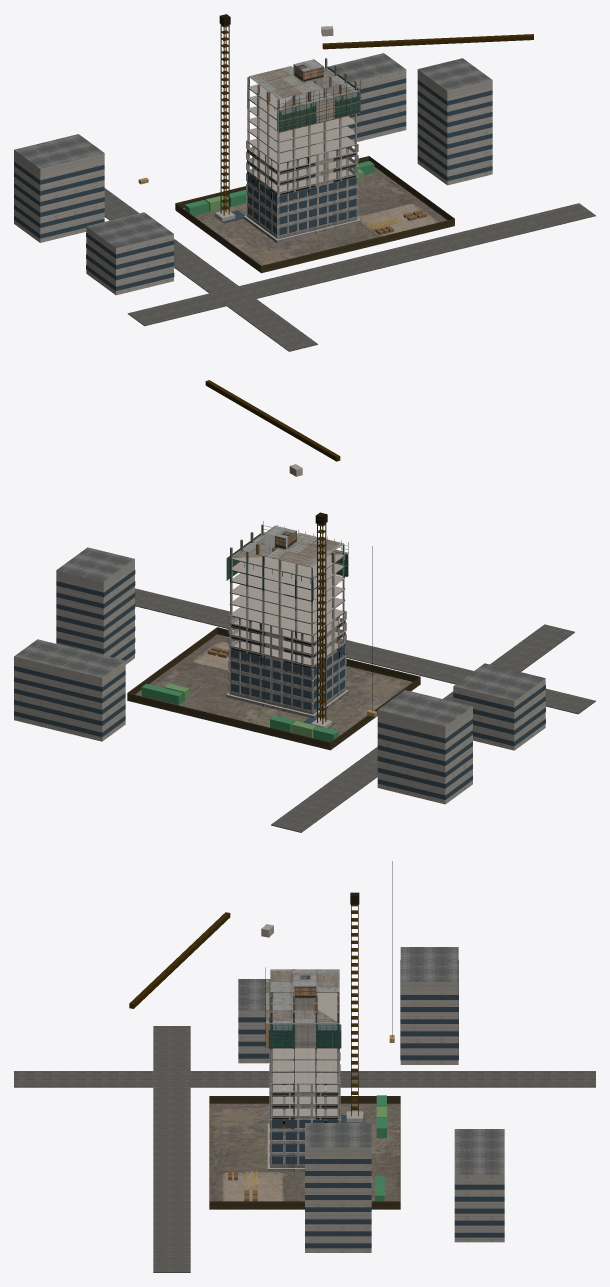
Rendered from tower-m8.glb.
3 views of the same model, one above another, from view 1: azimuth 30°, elevation 25°; view 2: azimuth 150°, elevation 25°; view 3: azimuth 270°, elevation 25° (orthographic). The views are drawn at different scales.
Parts seen in each view (by area): view 1: Ground_NeighbourPBR, Ground_AsphaltPBR, Ground_GlassPBR, SitePad, Ground_FencePBR, Crane_CranePBR, F13_PlywoodPBR, Slab_11, Slab_7, Slab_6, Slab_8, F12_NetPBR (+20 smaller); view 2: Ground_NeighbourPBR, Ground_GlassPBR, Ground_AsphaltPBR, SitePad, Ground_FencePBR, Crane_CranePBR, F13_PlywoodPBR, Slab_11, Ground_ContainerPBR, Slab_8, Slab_9, Slab_7 (+16 smaller); view 3: Ground_NeighbourPBR, Ground_AsphaltPBR, SitePad, Ground_GlassPBR, Crane_CranePBR, Ground_FencePBR, Slab_11, F13_PlywoodPBR, GravelYard, F11_NetPBR, F12_NetPBR, Slab_7 (+7 smaller).
Part boxes in pixels (x1,y1,x2,y2): Ground_NeighbourPBR: (14, 53, 492, 295); Ground_AsphaltPBR: (104, 188, 595, 351); Ground_GlassPBR: (14, 78, 492, 290); SitePad: (176, 167, 454, 273); Ground_FencePBR: (175, 156, 454, 272); Crane_CranePBR: (220, 24, 533, 215); F13_PlywoodPBR: (248, 66, 360, 111); Slab_11: (247, 68, 357, 109); Slab_7: (247, 126, 357, 153); Slab_6: (247, 137, 356, 163); Slab_8: (247, 116, 357, 142); F12_NetPBR: (278, 67, 360, 121); Ground_NeighbourPBR: (14, 547, 545, 804); Ground_GlassPBR: (14, 570, 545, 799); Ground_AsphaltPBR: (135, 588, 595, 832); SitePad: (127, 634, 420, 750); Ground_FencePBR: (127, 627, 420, 749); Crane_CranePBR: (205, 380, 340, 724); F13_PlywoodPBR: (256, 532, 348, 567); Slab_11: (229, 535, 345, 579); Ground_ContainerPBR: (141, 683, 338, 742); Slab_8: (229, 584, 345, 613); Slab_9: (229, 573, 345, 601); Slab_7: (229, 595, 345, 624); Ground_NeighbourPBR: (238, 947, 504, 1252); Ground_AsphaltPBR: (14, 1026, 595, 1272); SitePad: (209, 1103, 400, 1209); Ground_GlassPBR: (238, 960, 504, 1248); Crane_CranePBR: (129, 904, 358, 1116); Ground_FencePBR: (209, 1096, 400, 1208); Slab_11: (270, 993, 339, 1024); F13_PlywoodPBR: (266, 969, 339, 1023); GravelYard: (222, 1172, 271, 1201); F11_NetPBR: (268, 1036, 341, 1048); F12_NetPBR: (268, 1024, 341, 1036); Slab_7: (270, 1060, 339, 1072).
Size of what is drawn, in the model's own units: 140 by 61 by 140.
24 materials, 23 textured.
